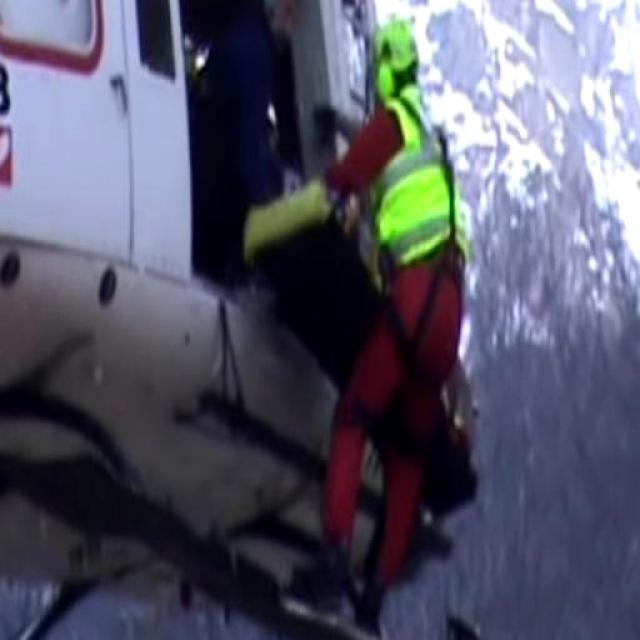drone: (0, 0, 488, 640)
